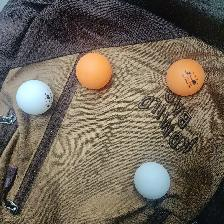WhiteBall: (133, 161, 170, 199), (15, 79, 52, 115)
YellowBall: (166, 59, 204, 95), (75, 53, 112, 89)
